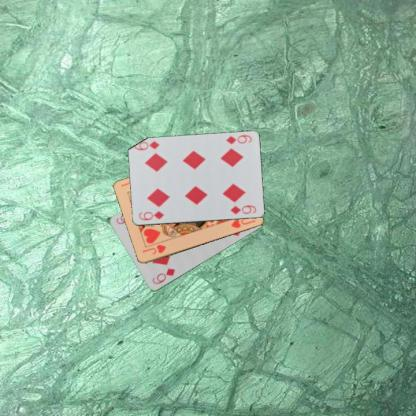6d: (150, 266, 176, 285), (223, 132, 253, 146), (136, 208, 164, 222)
Jh: (140, 242, 167, 256)
